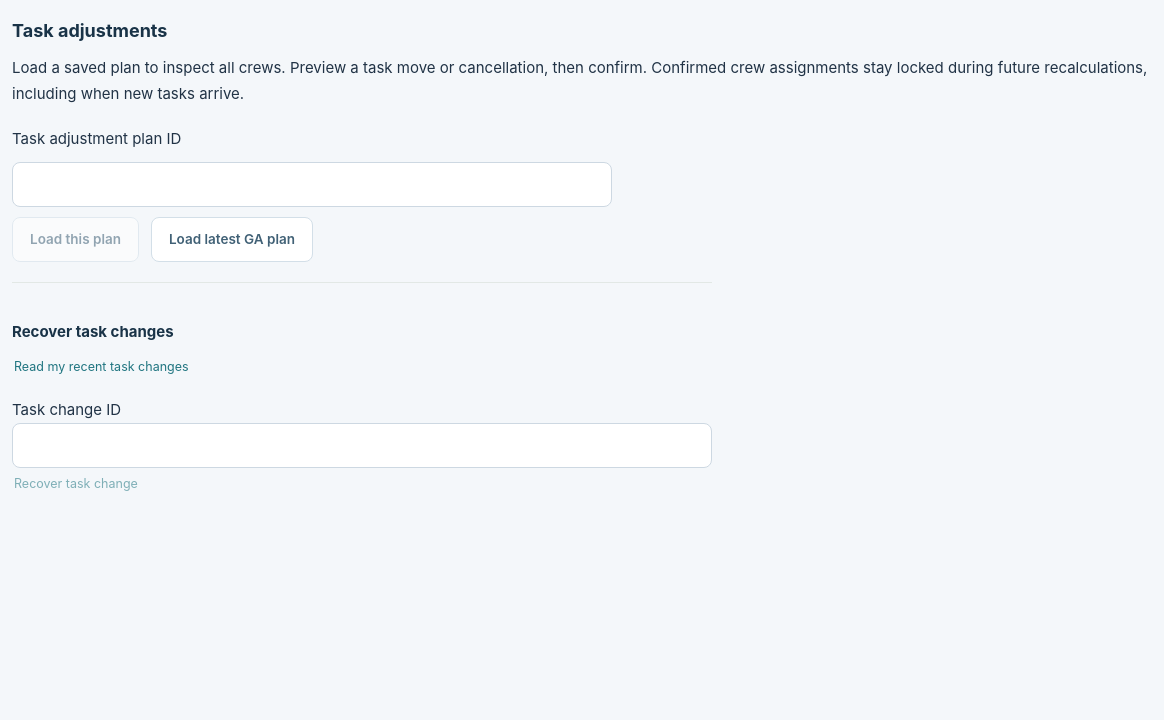
blocks mock writes and stale plan changes
Click the button "Load latest GA plan" at (232, 240), box [151, 217, 313, 262]
(page scrolled)
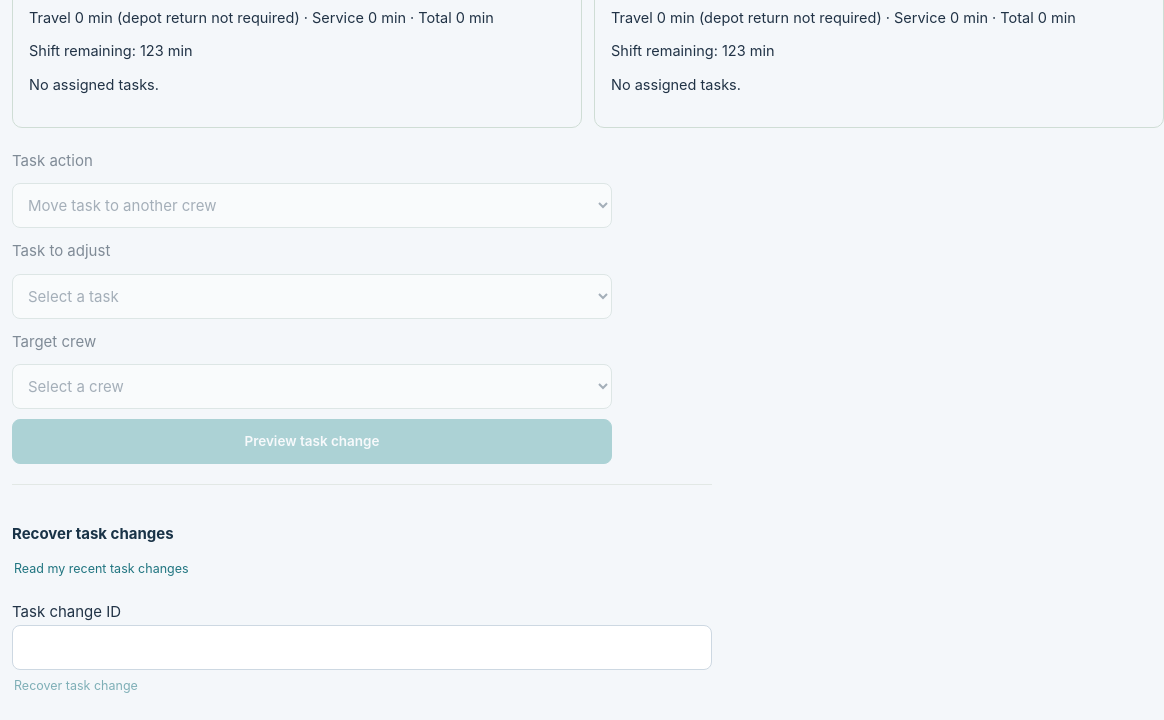
Result: the dropdown labelled "Task action" is disabled at [12, 183, 612, 228]
Result: the button "Preview task change" is disabled at [12, 419, 612, 464]
